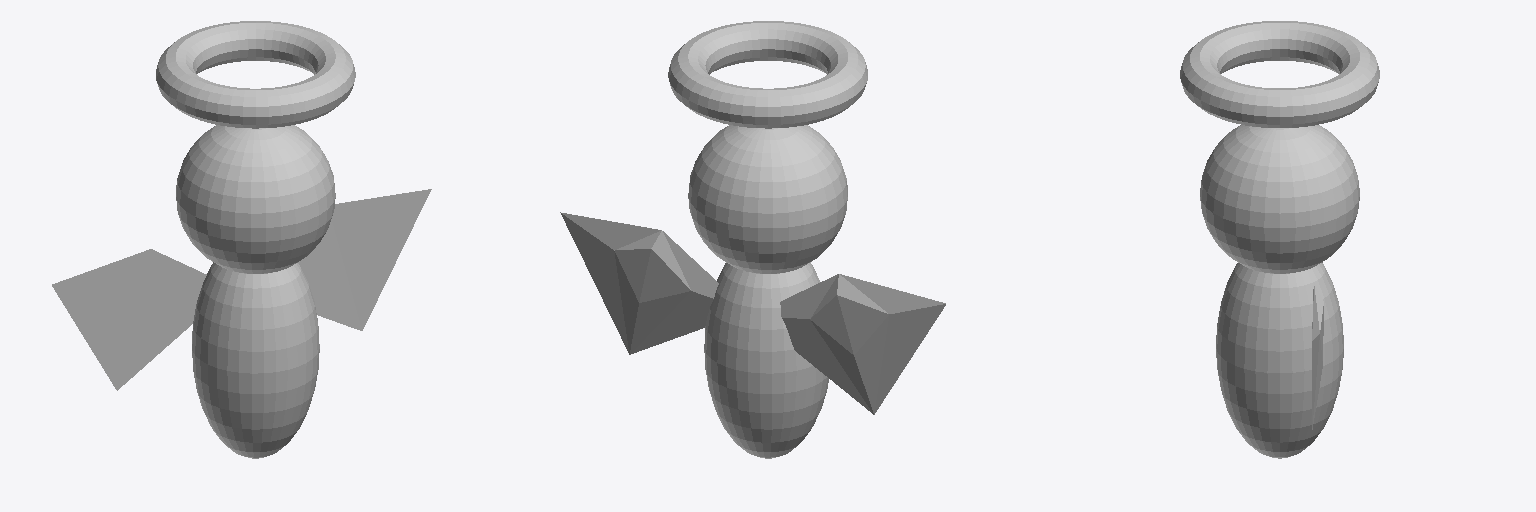
Rendered from angel.obj.
The picture shows the model from 3 angles: view 1: azimuth 30°, elevation 25°; view 2: azimuth 150°, elevation 25°; view 3: azimuth 270°, elevation 25°; orthographic projection.
Visible parts, largest first — view 1: Torus.001; view 2: Torus.001; view 3: Torus.001.
Part boxes in pixels (x1,y1,x2,y2): Torus.001: (52, 21, 431, 458); Torus.001: (560, 21, 945, 458); Torus.001: (1180, 21, 1379, 458).
Size of the model in its own units: 5.52 by 5.49 by 2.5.